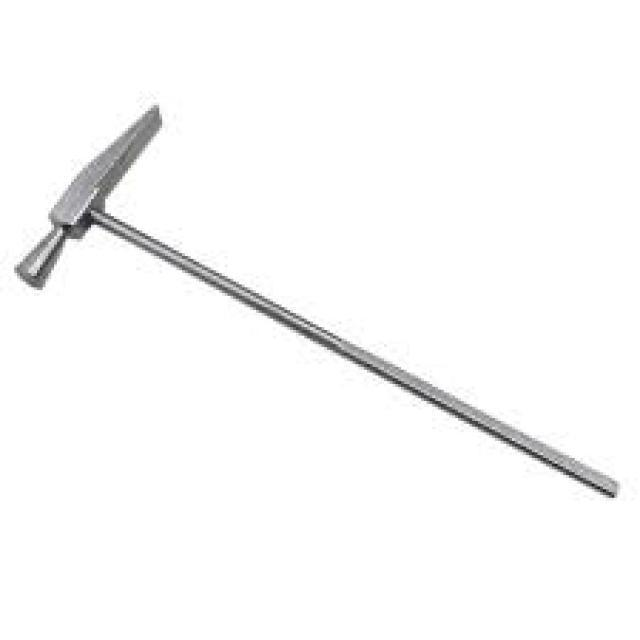hammer: (12, 101, 630, 524)
